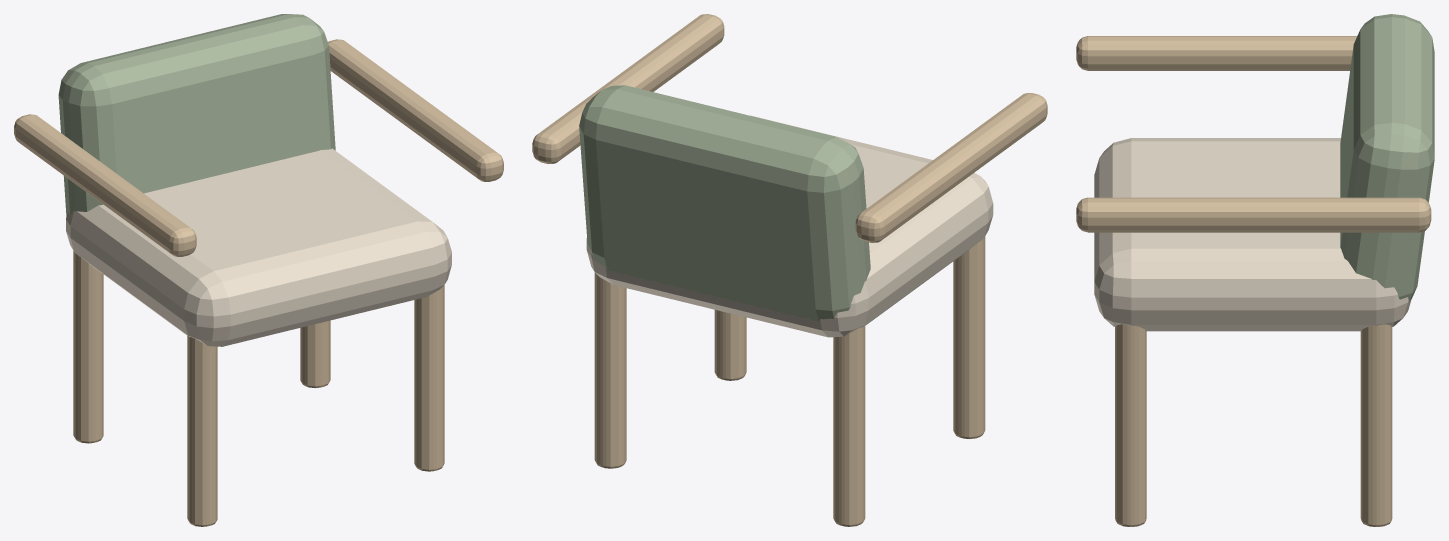
The model's file is chair-breeze-painterly-v1.glb.
3 renders of one model, left to right at view 1: azimuth 30°, elevation 25°; view 2: azimuth 150°, elevation 25°; view 3: azimuth 270°, elevation 25°, orthographic. The views are drawn at different scales.
Parts seen in each view (by area): view 1: HP_CHAIR__Seat, HP_CHAIR__Back, HP_CHAIR__Arm, HP_CHAIR__Arm.001, HP_CHAIR__Leg, HP_CHAIR__Leg.001, HP_CHAIR__Leg.002, HP_CHAIR__Leg.003; view 2: HP_CHAIR__Back, HP_CHAIR__Seat, HP_CHAIR__Arm, HP_CHAIR__Leg.001, HP_CHAIR__Leg, HP_CHAIR__Leg.003, HP_CHAIR__Arm.001, HP_CHAIR__Leg.002; view 3: HP_CHAIR__Seat, HP_CHAIR__Back, HP_CHAIR__Arm.001, HP_CHAIR__Arm, HP_CHAIR__Leg.003, HP_CHAIR__Leg.002.
Part boxes in pixels (bbox=[...]): HP_CHAIR__Seat: bbox=[66, 148, 451, 346]; HP_CHAIR__Back: bbox=[58, 14, 335, 216]; HP_CHAIR__Arm: bbox=[14, 114, 196, 256]; HP_CHAIR__Arm.001: bbox=[328, 39, 503, 181]; HP_CHAIR__Leg: bbox=[187, 335, 217, 526]; HP_CHAIR__Leg.001: bbox=[73, 251, 103, 443]; HP_CHAIR__Leg.002: bbox=[414, 285, 444, 471]; HP_CHAIR__Leg.003: bbox=[300, 320, 330, 388]; HP_CHAIR__Back: bbox=[579, 85, 870, 321]; HP_CHAIR__Seat: bbox=[586, 115, 993, 337]; HP_CHAIR__Arm: bbox=[855, 93, 1047, 242]; HP_CHAIR__Leg.001: bbox=[833, 325, 865, 526]; HP_CHAIR__Leg: bbox=[953, 236, 985, 438]; HP_CHAIR__Leg.003: bbox=[594, 272, 626, 468]; HP_CHAIR__Arm.001: bbox=[532, 14, 724, 163]; HP_CHAIR__Leg.002: bbox=[714, 310, 746, 380]; HP_CHAIR__Seat: bbox=[1094, 138, 1411, 331]; HP_CHAIR__Back: bbox=[1340, 14, 1434, 301]; HP_CHAIR__Arm.001: bbox=[1076, 197, 1431, 232]; HP_CHAIR__Arm: bbox=[1076, 36, 1357, 70]; HP_CHAIR__Leg.003: bbox=[1360, 324, 1392, 526]; HP_CHAIR__Leg.002: bbox=[1115, 324, 1146, 526].
Size of the model in its own units: 0.7104 by 0.7416 by 0.6146.
